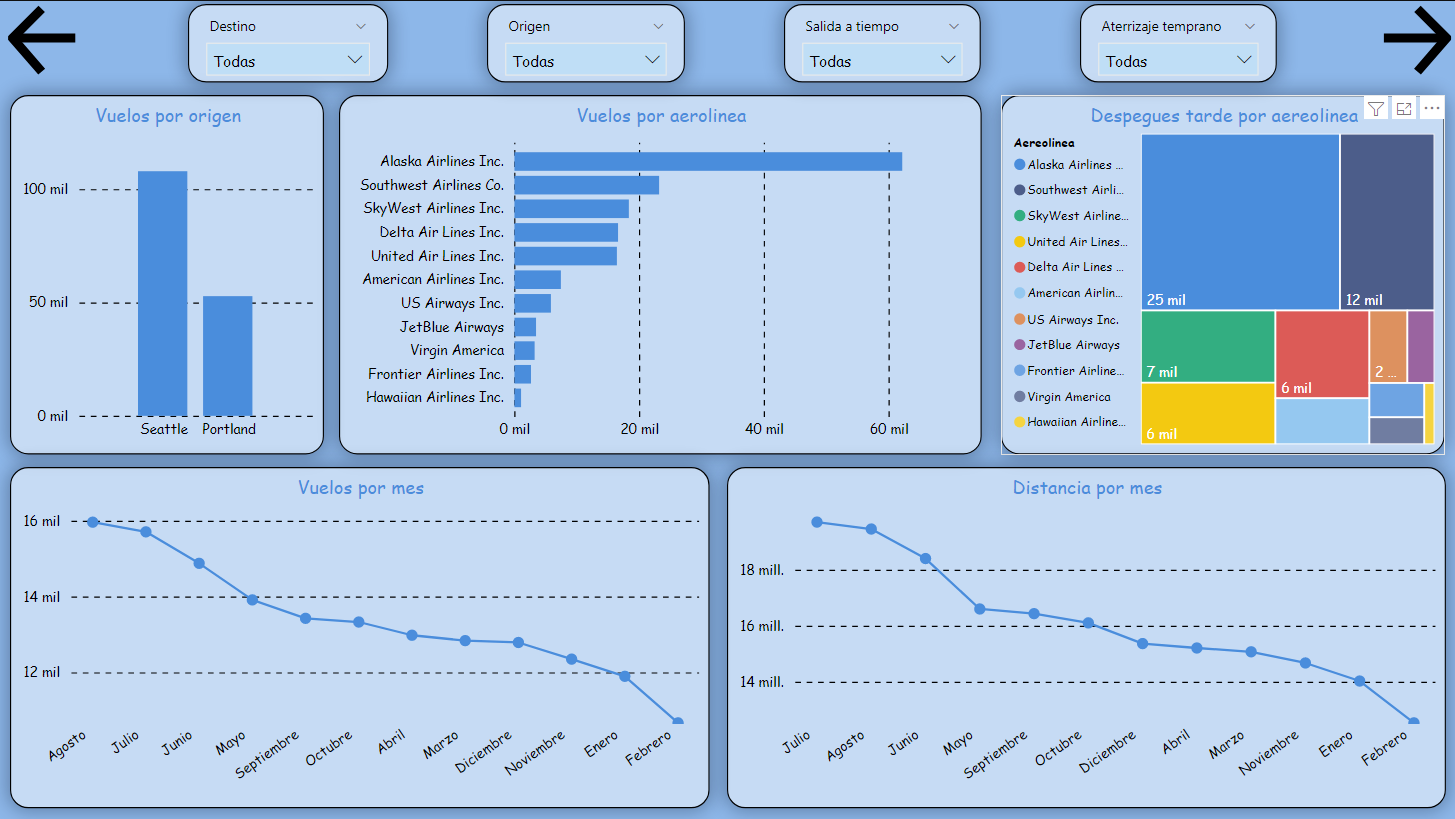

This screenshot's page, from the dashboard's own definition file:
{"tool":"powerbi","page":{"name":"Graficos 1","canvas":[1280,720],"ordinal":1},"visuals":[{"type":"barChart","title":"Vuelos por aerolinea","fields":{"Category":["flights.carrier"],"Y":["CountNonNull(flights.year)"]},"box":[298.5,82.4,564.8,316.4],"z":0},{"type":"columnChart","title":"Vuelos por origen","fields":{"Category":["flights.origin"],"Y":["CountNonNull(flights.year)"]},"box":[9.6,82.4,275.8,316.4],"z":1000},{"type":"treemap","fields":{"Group":["flights.carrier"],"Values":["Sum(flights.llegada_tarde)"]},"box":[881.2,82.4,390.4,316.4],"z":2000},{"type":"lineChart","title":"Vuelos por mes","fields":{"Category":["flights.Months"],"Y":["CountNonNull(flights.year)"]},"box":[9.6,409.6,614.9,299.7],"z":3000},{"type":"slicer","fields":{"Values":["flights.dest"]},"box":[166,2.4,175.5,69.3],"z":4000},{"type":"slicer","fields":{"Values":["flights.origin"]},"box":[428.7,2.4,174.3,69.3],"z":5000},{"type":"slicer","fields":{"Values":["flights.salida_adelantada"]},"box":[690.1,2.4,173.1,69.3],"z":6000},{"type":"lineChart","fields":{"Category":["flights.Months"],"Y":["Sum(flights.distance)"]},"box":[640,409.6,631.6,299.7],"z":7000},{"type":"slicer","fields":{"Values":["flights.llegada_tiempo"]},"box":[950.4,2.4,173.1,69.3],"z":8000},{"type":"actionButton","box":[0,0,78.8,69.3],"z":9000},{"type":"actionButton","box":[1210.7,0,69.3,69.3],"z":10000}]}

Visuals, with their boxes in screenshot pixels (x1, y1, x2, y2), scaled from the page's 1280x720 canvas onto the 1455x819 screenshot:
"Vuelos por aerolinea" barChart: pyautogui.locateOnScreen(339, 94, 981, 454)
"Vuelos por origen" columnChart: pyautogui.locateOnScreen(11, 94, 324, 454)
treemap - flights.carrier x Sum(flights.llegada_tarde): pyautogui.locateOnScreen(1002, 94, 1445, 454)
"Vuelos por mes" lineChart: pyautogui.locateOnScreen(11, 466, 710, 807)
slicer - flights.dest: pyautogui.locateOnScreen(189, 3, 388, 82)
slicer - flights.origin: pyautogui.locateOnScreen(487, 3, 685, 82)
slicer - flights.salida_adelantada: pyautogui.locateOnScreen(784, 3, 981, 82)
lineChart - flights.Months x Sum(flights.distance): pyautogui.locateOnScreen(728, 466, 1445, 807)
slicer - flights.llegada_tiempo: pyautogui.locateOnScreen(1080, 3, 1277, 82)
actionButton: pyautogui.locateOnScreen(0, 0, 90, 79)
actionButton: pyautogui.locateOnScreen(1376, 0, 1454, 79)
